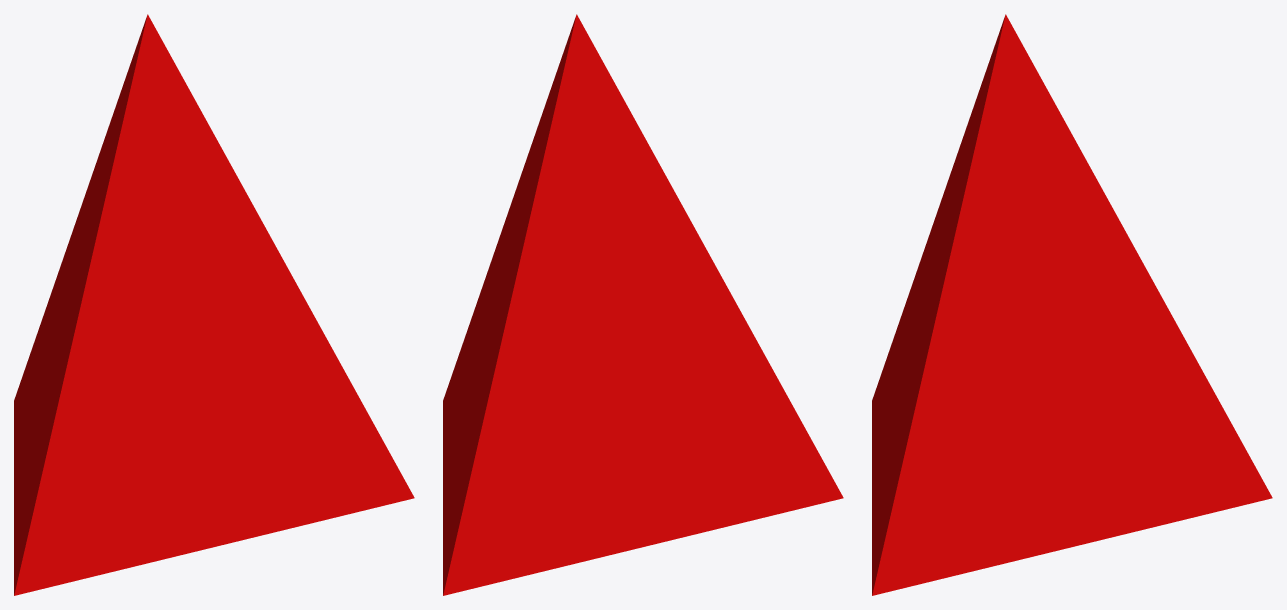
The model's file is enemy_pyramid.glb.
3 renders of one model, left to right at view 1: azimuth 30°, elevation 25°; view 2: azimuth 150°, elevation 25°; view 3: azimuth 270°, elevation 25°, orthographic.
Parts seen in each view (by area): view 1: Cone; view 2: Cone; view 3: Cone.
Boxes of the visible parts, x1=… form: Cone: x1=14, y1=14, x2=414, y2=595; Cone: x1=443, y1=14, x2=843, y2=595; Cone: x1=872, y1=14, x2=1272, y2=595.
Bounding box in the file's own units: 1.73 × 2 × 1.5.
